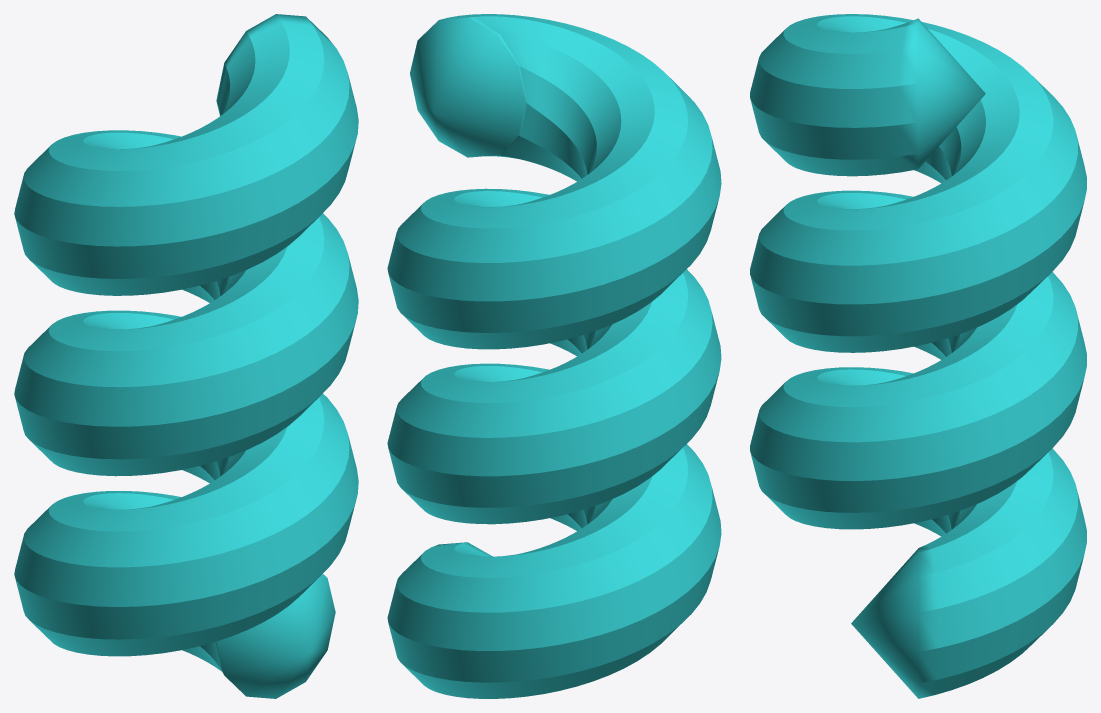
Rendered from Plasma_Coil_Model.fbx.
3 renders of one model, left to right at view 1: azimuth 30°, elevation 25°; view 2: azimuth 150°, elevation 25°; view 3: azimuth 270°, elevation 25°, orthographic. The views are drawn at different scales.
Visible parts, largest first — view 1: Plasma_Coil; view 2: Plasma_Coil; view 3: Plasma_Coil.
Part boxes in pixels (bbox=[...]): Plasma_Coil: bbox=[14, 14, 358, 698]; Plasma_Coil: bbox=[387, 14, 721, 698]; Plasma_Coil: bbox=[750, 14, 1086, 698].
Bounding box in the file's own units: 2 × 4.39 × 2.
